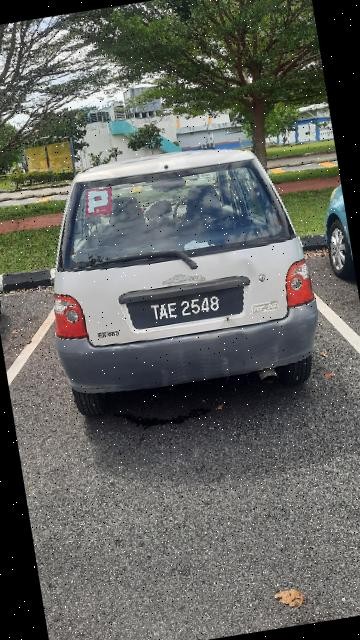License_Plate: (141, 287, 241, 332)
car: (21, 127, 335, 434)
